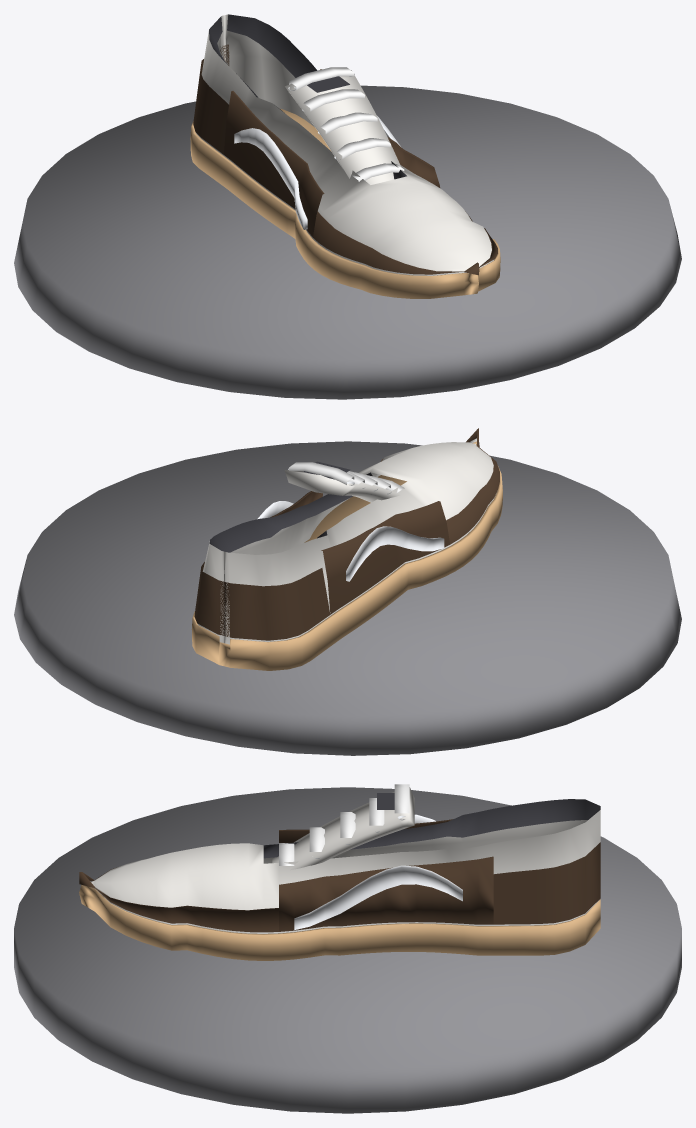
Rendered from test_complete_sneaker.glb.
3 renders of one model, top to bottom at view 1: azimuth 30°, elevation 25°; view 2: azimuth 150°, elevation 25°; view 3: azimuth 270°, elevation 25°, orthographic. The views are drawn at different scales.
Visible parts, largest first — view 1: Sneaker_Pedestal, Sneaker_Upper, Sneaker_Design_Layers, Sneaker_Sole, Sneaker_Tongue, Sneaker_Laces; view 2: Sneaker_Pedestal, Sneaker_Upper, Sneaker_Design_Layers, Sneaker_Sole, Sneaker_Tongue, Sneaker_Laces; view 3: Sneaker_Pedestal, Sneaker_Upper, Sneaker_Design_Layers, Sneaker_Sole, Sneaker_Tongue, Sneaker_Laces.
Boxes of the visible parts, <box> form: Sneaker_Pedestal: <box>14,85,681,399</box>; Sneaker_Upper: <box>196,14,494,275</box>; Sneaker_Design_Layers: <box>193,44,497,275</box>; Sneaker_Sole: <box>190,108,500,298</box>; Sneaker_Tongue: <box>285,70,400,184</box>; Sneaker_Laces: <box>288,67,404,181</box>; Sneaker_Pedestal: <box>14,441,681,755</box>; Sneaker_Upper: <box>198,438,496,644</box>; Sneaker_Design_Layers: <box>194,428,499,640</box>; Sneaker_Sole: <box>191,441,502,670</box>; Sneaker_Tongue: <box>284,461,400,502</box>; Sneaker_Laces: <box>288,462,404,494</box>; Sneaker_Pedestal: <box>14,787,681,1113</box>; Sneaker_Upper: <box>90,799,600,933</box>; Sneaker_Design_Layers: <box>79,814,600,932</box>; Sneaker_Sole: <box>79,885,600,960</box>; Sneaker_Tongue: <box>272,787,414,870</box>; Sneaker_Laces: <box>279,784,409,865</box>.
Bounding box in the file's own units: 0.383 × 0.1056 × 0.37.
